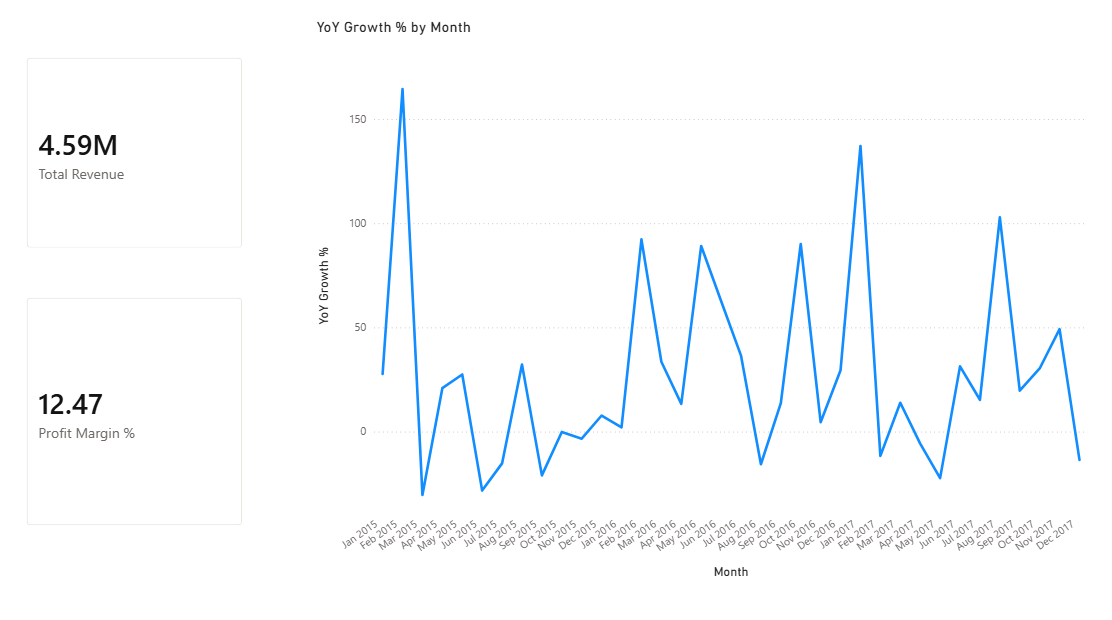

This screenshot's page, from the dashboard's own definition file:
{"tool":"powerbi","page":{"name":"DAX Insights","canvas":[1280,720],"ordinal":3},"visuals":[{"type":"lineChart","fields":{"Category":["DateTable.Month"],"Y":["orders.YoY Growth %"]},"box":[360,22.9,891.4,645.7],"z":0},{"type":"cardVisual","fields":{"Data":["orders.Total Revenue"]},"box":[17.1,51.4,280,251.4],"z":1},{"type":"cardVisual","fields":{"Data":["orders.Profit Margin %"]},"box":[17.1,325.7,280,294.3],"z":2}]}

Visuals, with their boxes in screenshot pixels (x1, y1, x2, y2), scaled from the page's 1280x720 canvas onto the 1112x620 screenshot:
lineChart - DateTable.Month x orders.YoY Growth %: (313, 20, 1087, 576)
cardVisual - orders.Total Revenue: (15, 44, 258, 261)
cardVisual - orders.Profit Margin %: (15, 280, 258, 534)
